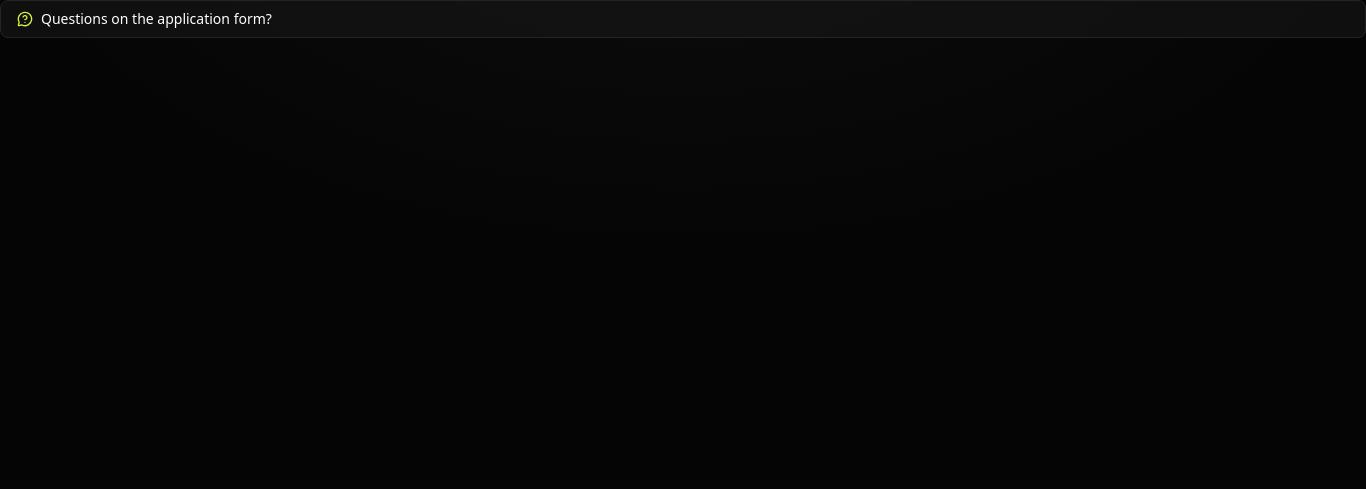
Test case: FormQuestions › sends the pasted questions and shows each answer, flagging ones only the user can answer
Click the heading "Questions on the application form?" at (144, 18), box [17,9,272,28]
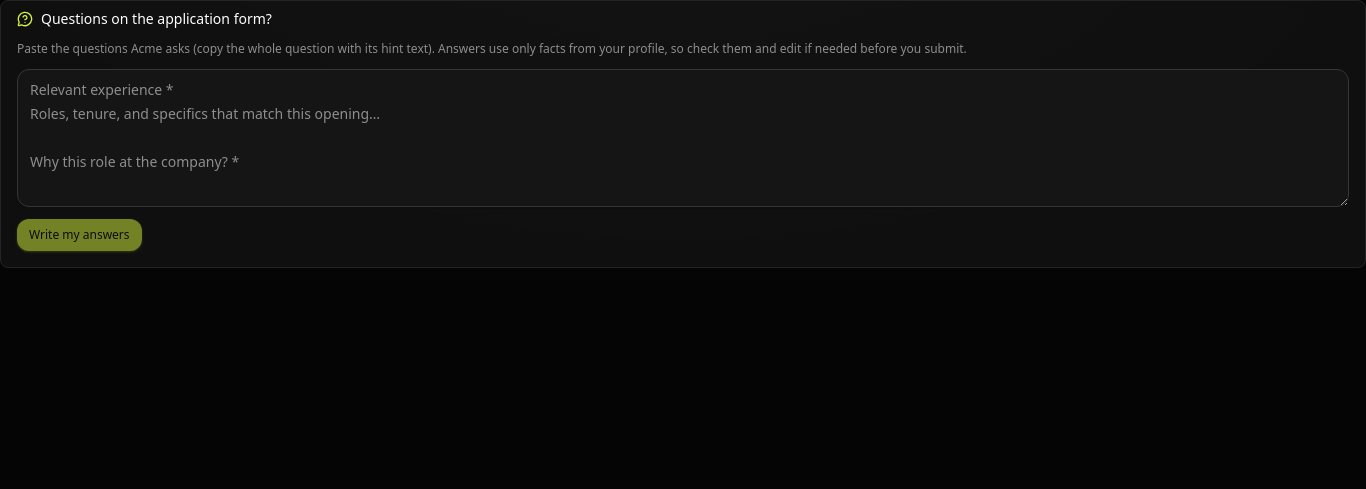
Type "Relevant experience *" into the text box labelled "Paste the questions Acme asks" at (683, 138), box [17,69,1349,207]
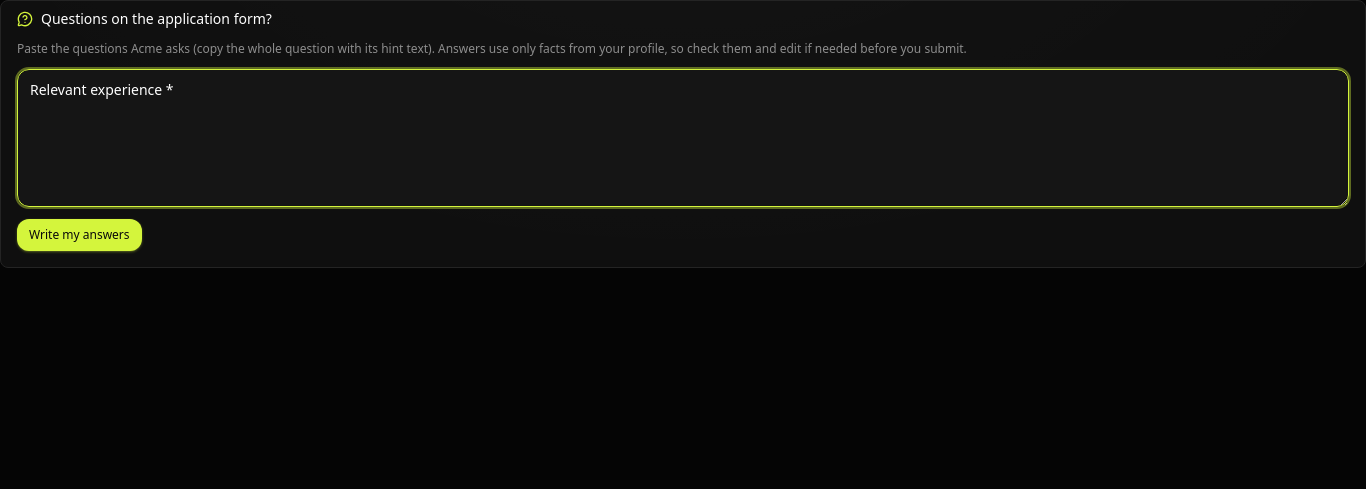
Click the button "Write my answers" at (79, 235), box [17,219,142,251]
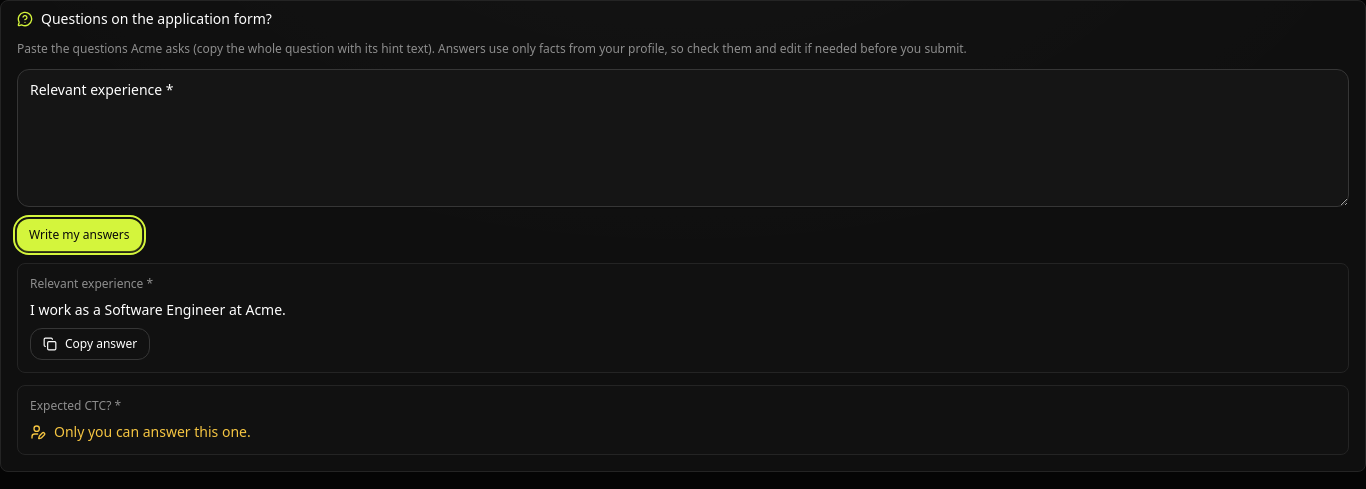
expect the text "I work as a Software Engineer at Acme." is shown: met, box [30,300,286,319]
expect the text "Only you can answer this one." is shown: met, box [30,422,251,441]
expect the number of buttons "Copy answer" is 1: met, box [30,328,150,360]
